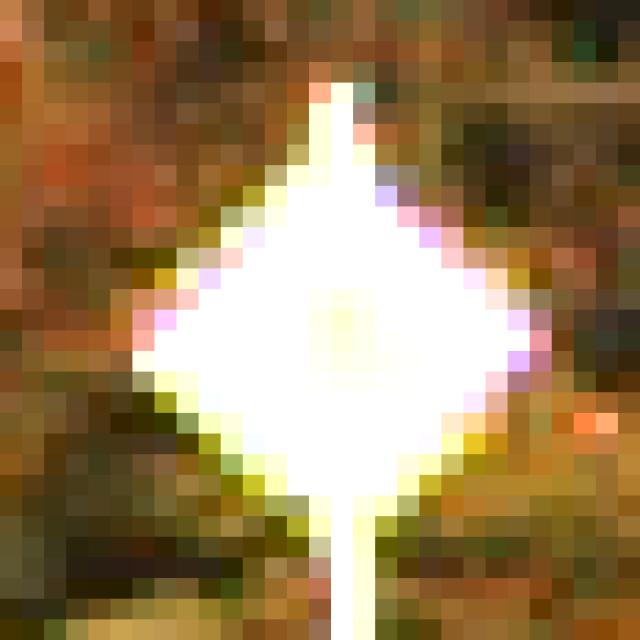Main Road: (111, 125, 531, 538)
